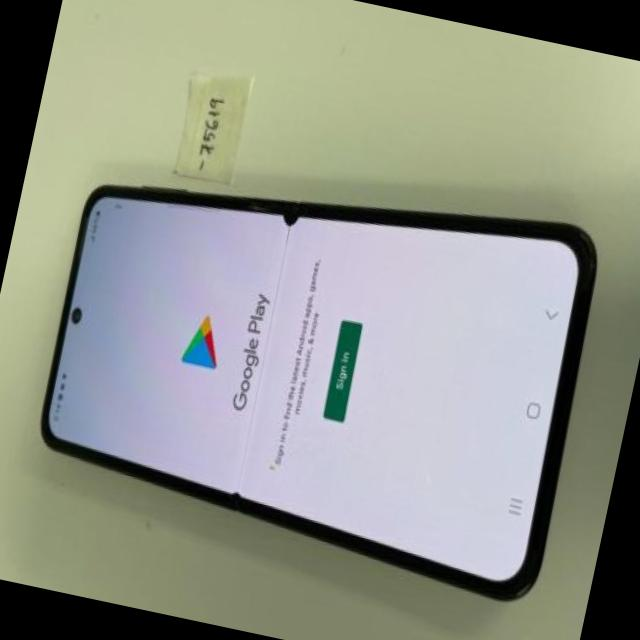dead pixel: (268, 192, 312, 248), (215, 465, 256, 521)
